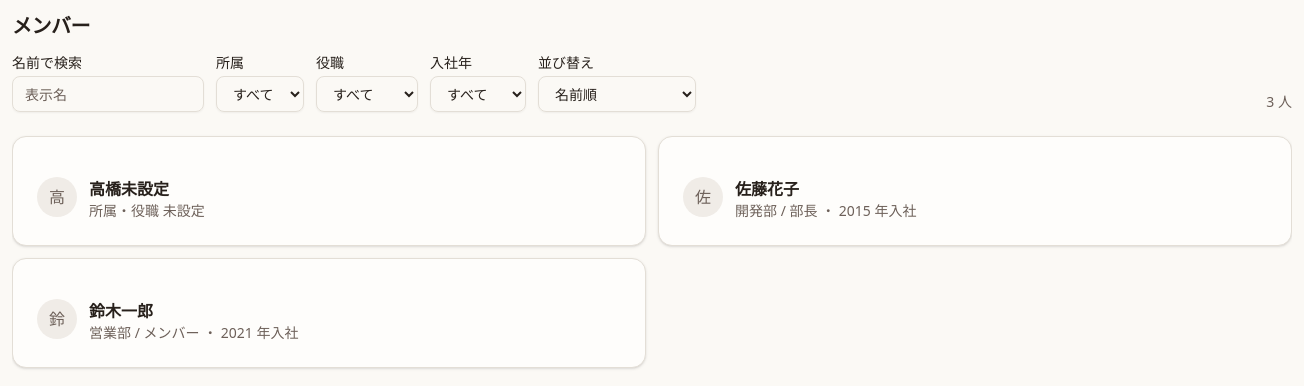
Scenario: ProfilesPage › 名前で検索できる
The image size is (1304, 386).
Expected: the heading "佐藤花子" is shown, [735,178,799,200]
In the search field labelled "名前で検索": [108, 94] box [12,76,204,112], type "鈴木"
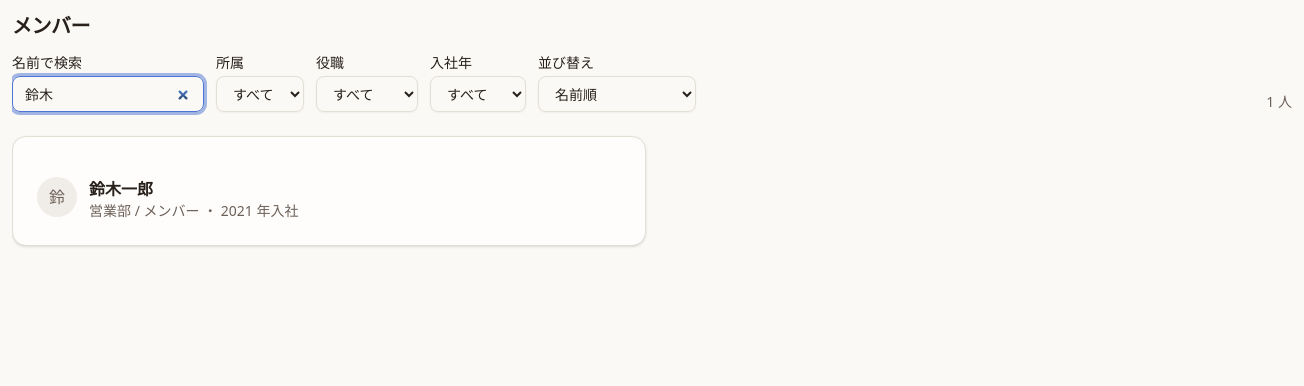
Expected: the heading "鈴木一郎" is shown, [89,178,153,200]
Now the link "佐藤花子" is gone
